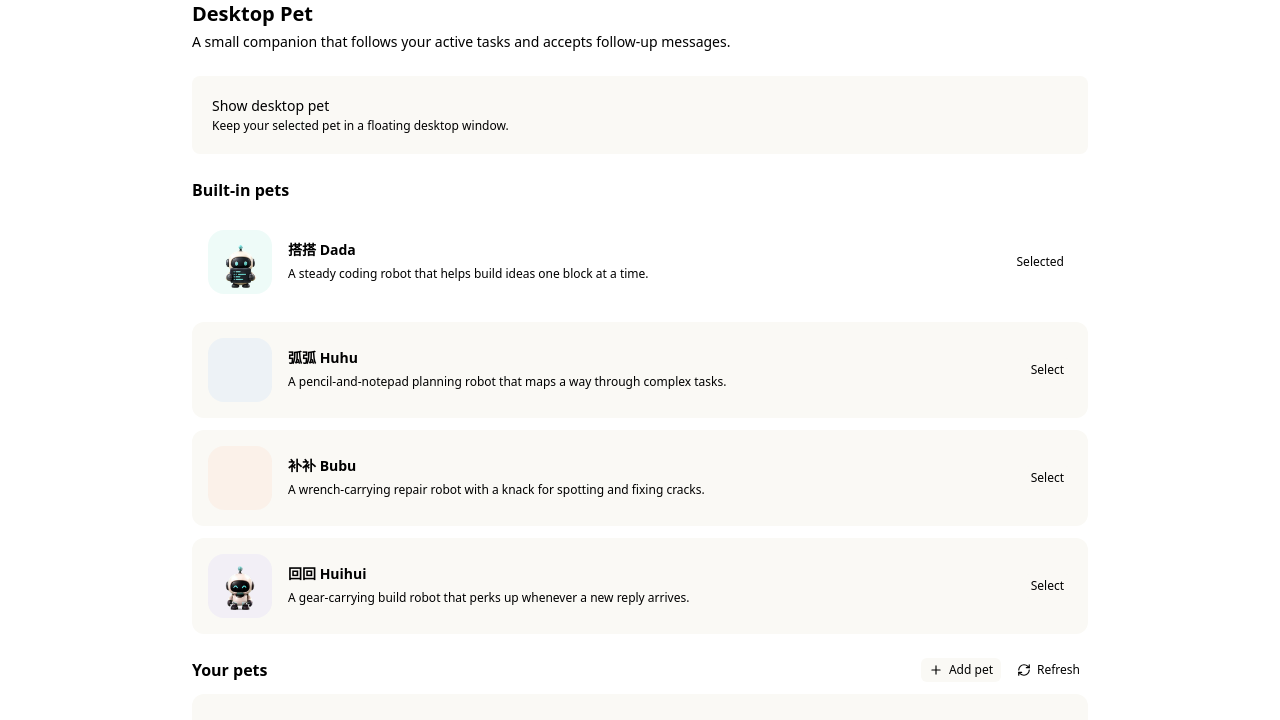
Test: PetSettings › explains the three creation paths without depending on the current chat model
Click the button "Add pet". click: point(961, 670)
box: [921,658,1001,682]
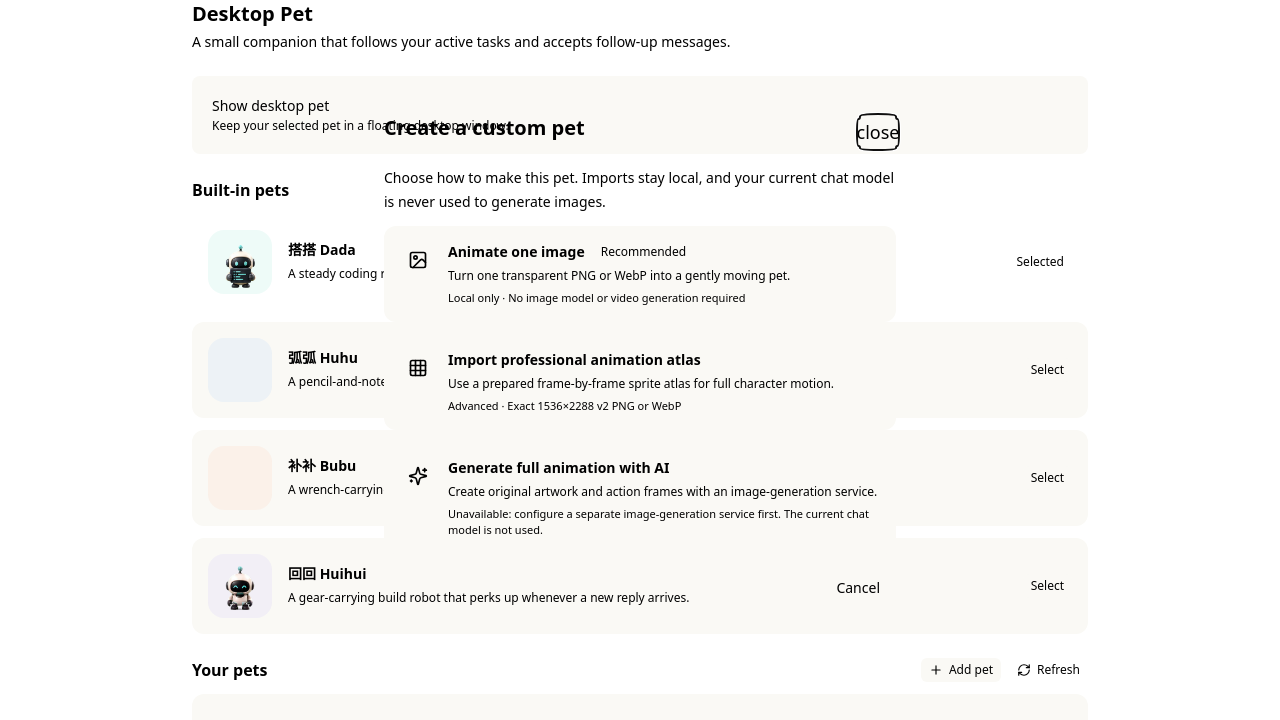
Check: the button "Animate one image" is enabled, box [384,226,896,322]
Check: the text "Local only · No image model or video generation required" is shown, box [448,290,746,305]
Check: the button "Import professional animation atlas" is enabled, box [384,334,896,430]
